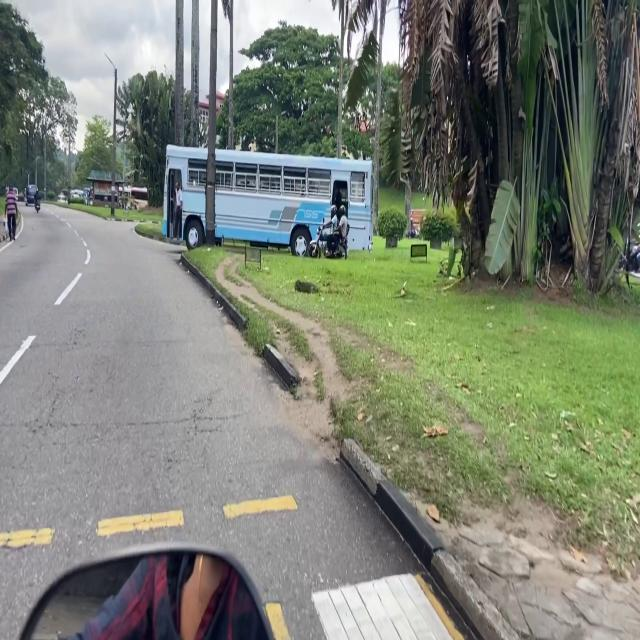bus: (163, 145, 372, 255)
motorcycle: (308, 224, 347, 258), (36, 200, 40, 211)
person: (323, 204, 338, 257), (5, 185, 18, 241), (335, 205, 349, 250), (173, 181, 182, 239), (34, 190, 40, 202)
van: (25, 184, 37, 206), (12, 187, 24, 200)
